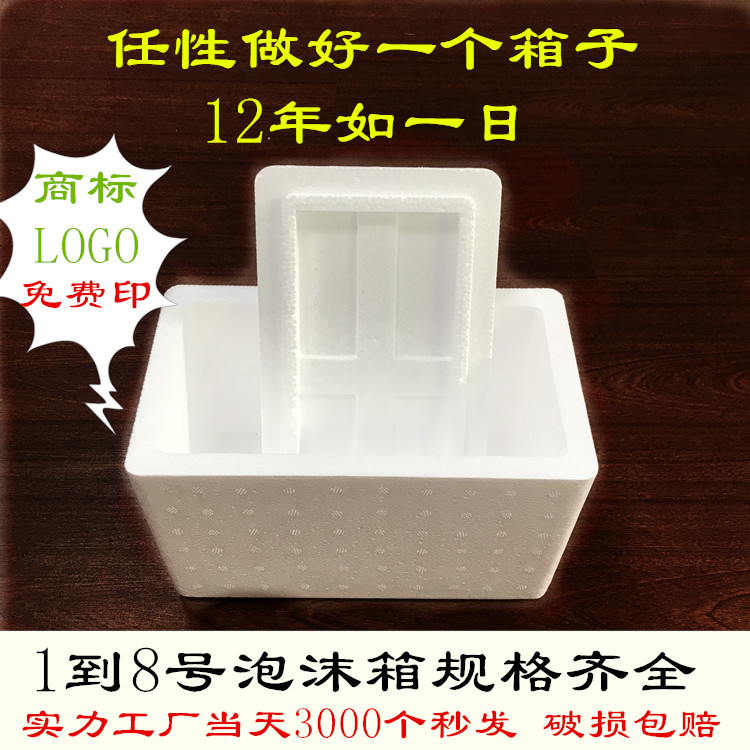泡沫箱: (125, 166, 598, 599)
